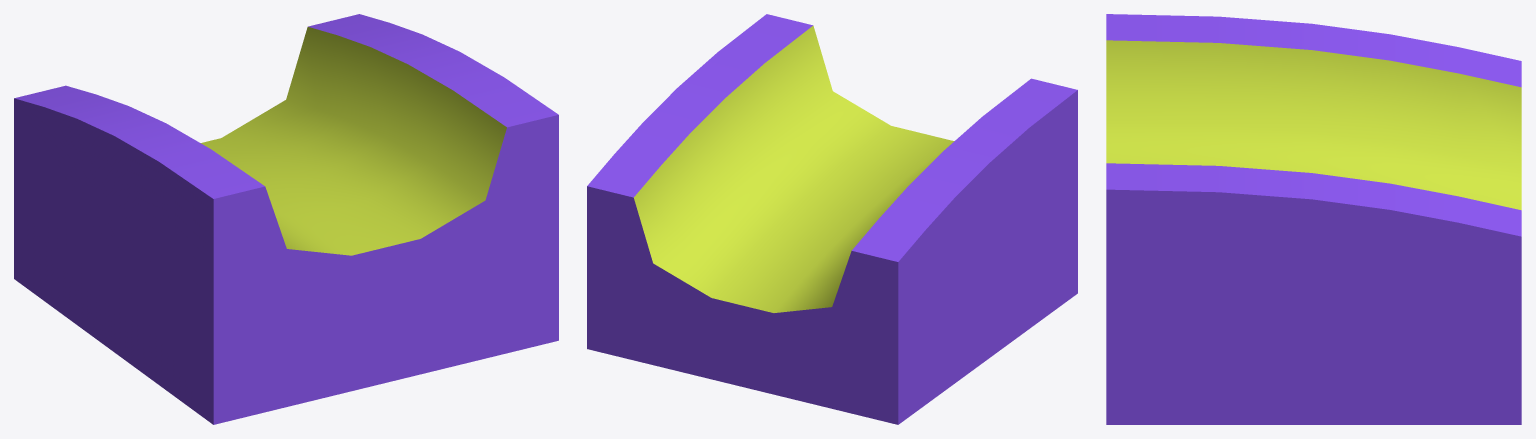
Rendered from rampEnd_solid_A.fbx.
The picture shows the model from 3 angles, left to right: view 1: azimuth 30°, elevation 25°; view 2: azimuth 150°, elevation 25°; view 3: azimuth 270°, elevation 25°; orthographic projection. The views are drawn at different scales.
Parts seen in each view (by area): view 1: rampEnd_solid_A; view 2: rampEnd_solid_A; view 3: rampEnd_solid_A.
Part boxes in pixels (x1,y1,x2,y2): rampEnd_solid_A: [14, 14, 558, 424]; rampEnd_solid_A: [587, 14, 1077, 424]; rampEnd_solid_A: [1106, 14, 1521, 424].
Size of the model in its own units: 10 by 6.25 by 10.
